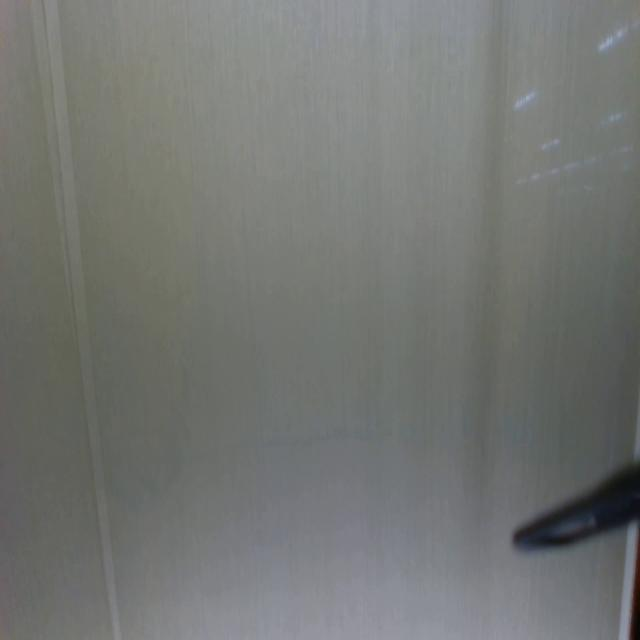color bleeding: (104, 394, 556, 520)
crease: (29, 0, 123, 639)
